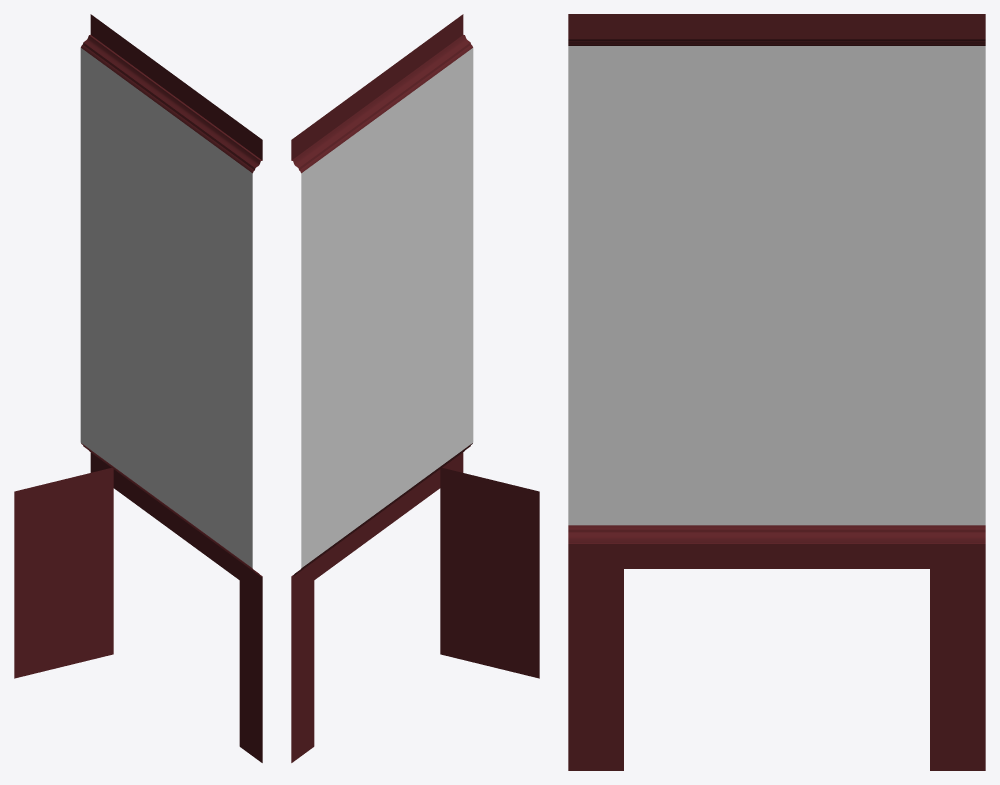
File: sm_wall_vent 1.fbx
3 views of the same model, side by side, from view 1: azimuth 30°, elevation 25°; view 2: azimuth 150°, elevation 25°; view 3: azimuth 270°, elevation 25° (orthographic). The views are drawn at different scales.
Visible parts, largest first — view 1: sm_wall_vent, sm_vent; view 2: sm_wall_vent, sm_vent; view 3: sm_wall_vent.
Boxes of the visible parts, left/top/right/bottom form: sm_wall_vent: left=80, top=14, right=262, bottom=762; sm_vent: left=14, top=468, right=113, bottom=678; sm_wall_vent: left=291, top=14, right=473, bottom=762; sm_vent: left=440, top=468, right=539, bottom=678; sm_wall_vent: left=568, top=14, right=985, bottom=770.
Size of the model in its own units: 50 by 300 by 150.
